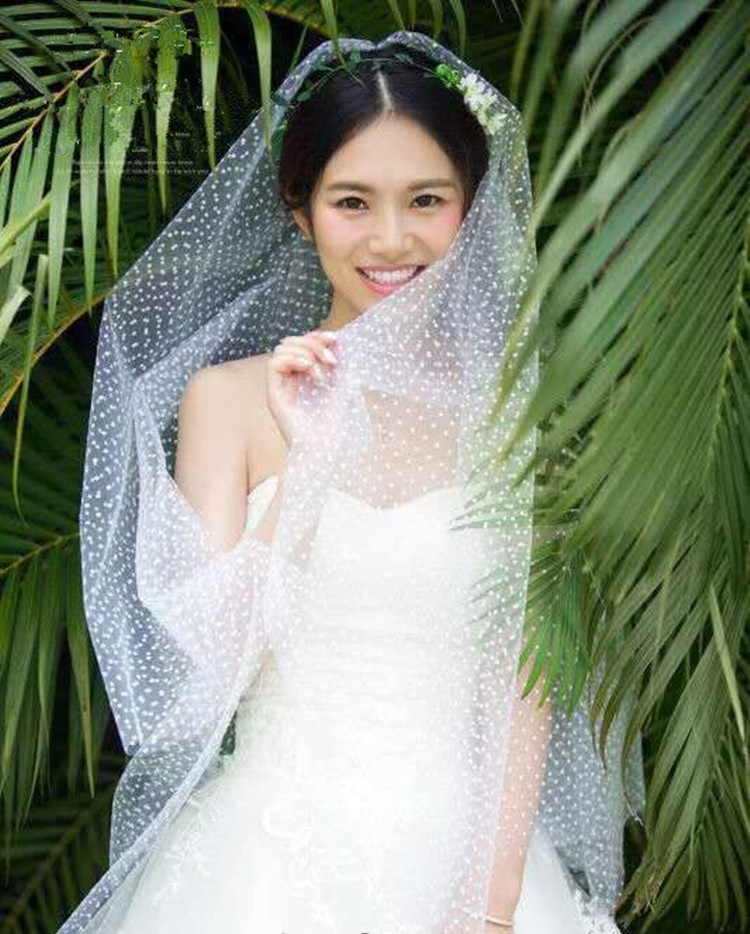face: (311, 112, 462, 323)
